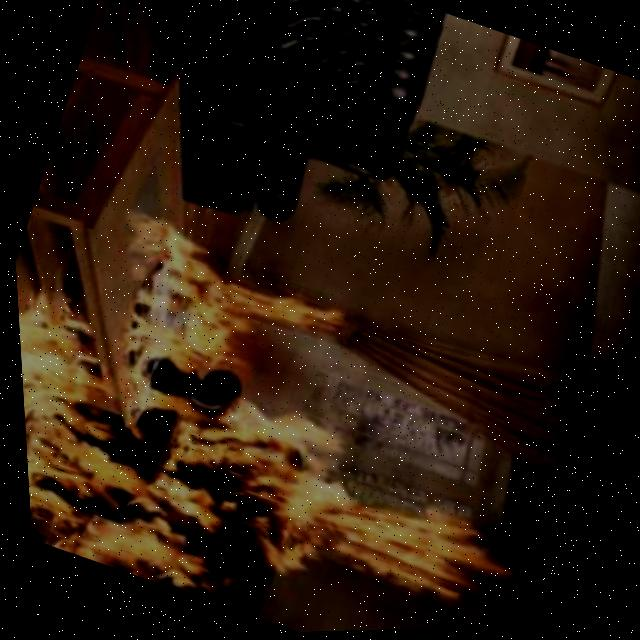Fire: (8, 164, 410, 637), (304, 458, 537, 633)
